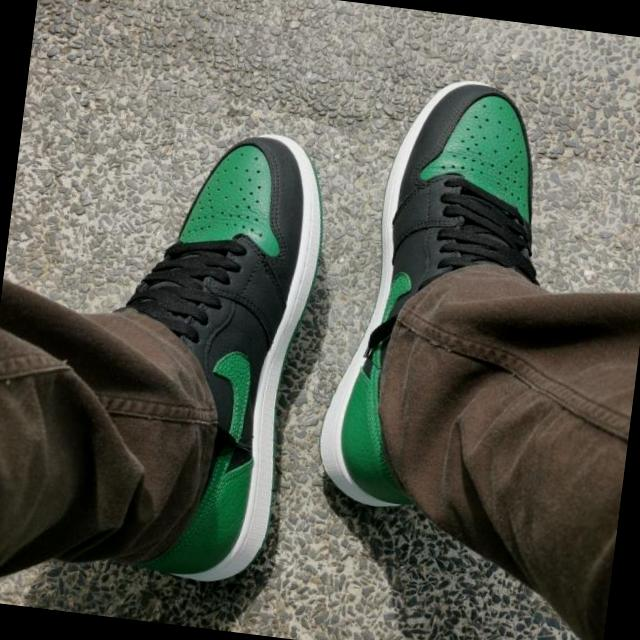nike_original_jordan: (83, 117, 334, 598), (311, 68, 555, 526)
